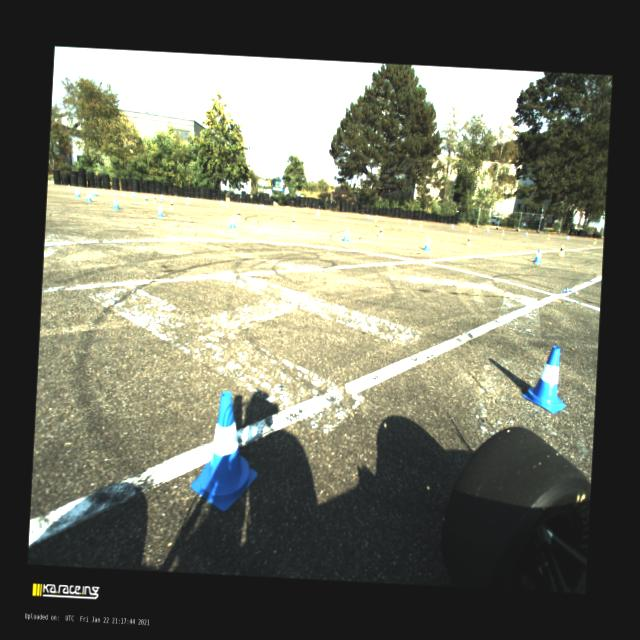blue_cone: (190, 389, 262, 512), (522, 344, 568, 414), (533, 248, 542, 264), (342, 228, 350, 242), (424, 237, 431, 251), (229, 215, 236, 228), (158, 205, 165, 217), (114, 198, 120, 208), (87, 192, 91, 202), (93, 189, 98, 196), (76, 188, 80, 196), (132, 192, 136, 198), (160, 193, 163, 200), (526, 231, 528, 236), (567, 236, 568, 240)
yellow_cone: (378, 226, 384, 238), (290, 216, 296, 227), (559, 245, 565, 256), (467, 234, 472, 246), (170, 200, 174, 210), (144, 196, 148, 204), (153, 195, 157, 202), (546, 234, 550, 240), (419, 221, 422, 226), (594, 239, 596, 244)
